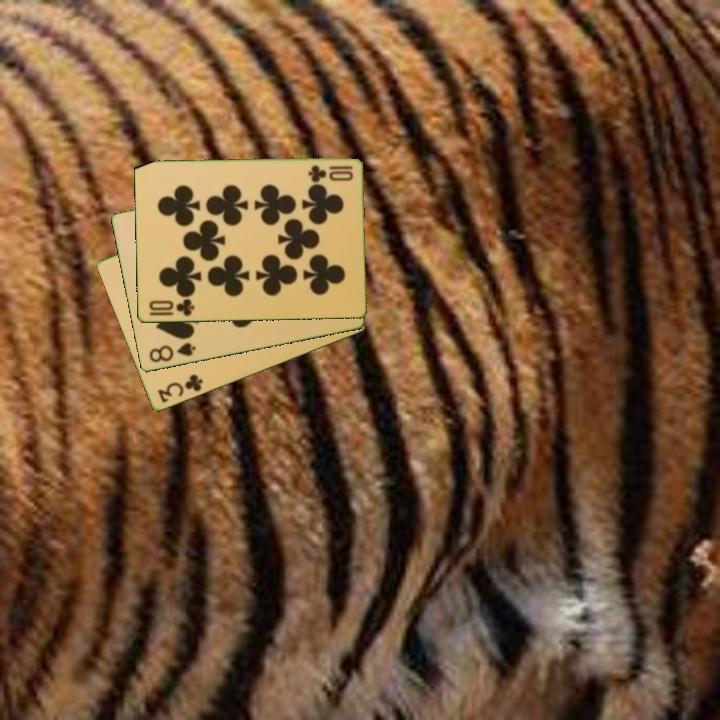10c: (145, 295, 197, 319), (304, 162, 356, 184)
3c: (154, 371, 206, 406)
8s: (145, 339, 198, 366)
